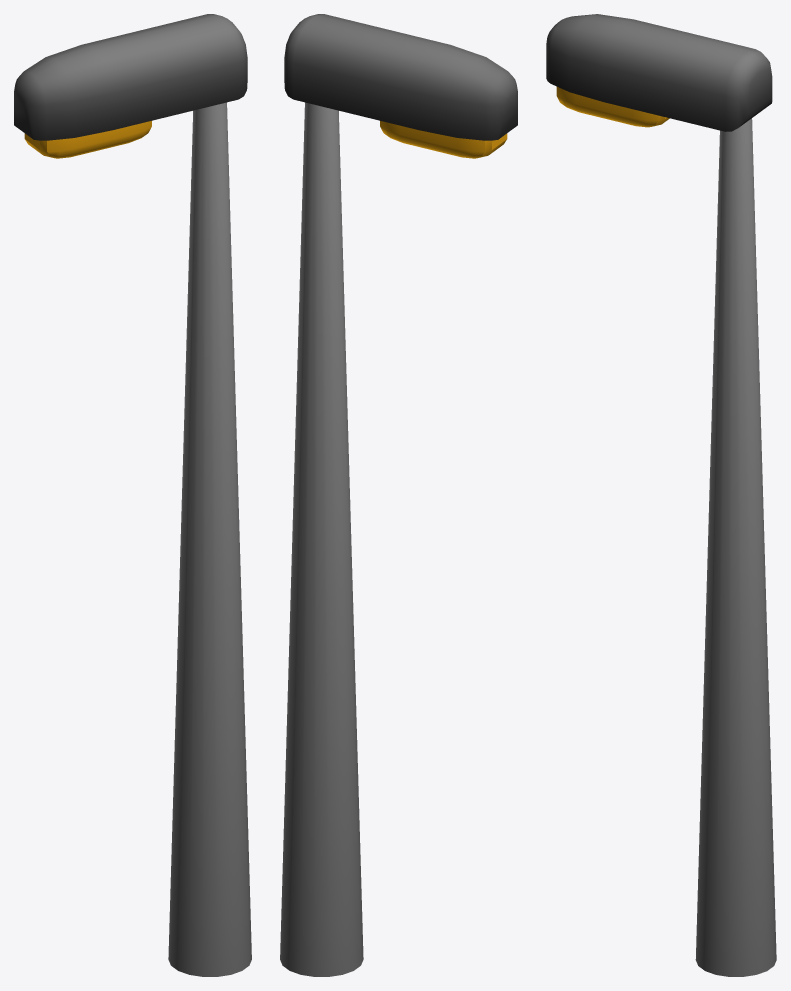
File: Lamb.fbx
The picture shows the model from 3 angles, left to right: view 1: azimuth 30°, elevation 25°; view 2: azimuth 150°, elevation 25°; view 3: azimuth 330°, elevation 25°; orthographic projection. The views are drawn at different scales.
Parts seen in each view (by area): view 1: Lamb; view 2: Lamb; view 3: Lamb.
Boxes of the visible parts, x1,y1,x2,y2 form: Lamb: (14, 14, 251, 976); Lamb: (280, 14, 517, 976); Lamb: (546, 14, 776, 976).
Size of the model in its own units: 0.3754 by 1.49 by 0.1202.
